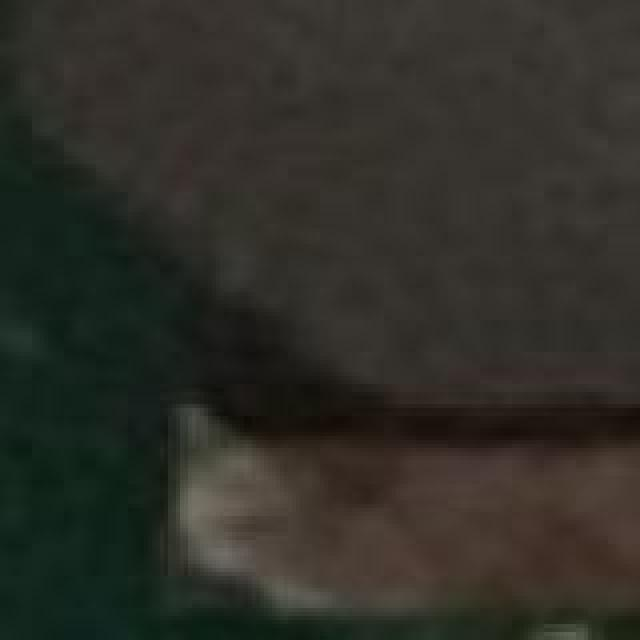inductor: (8, 0, 640, 632)
